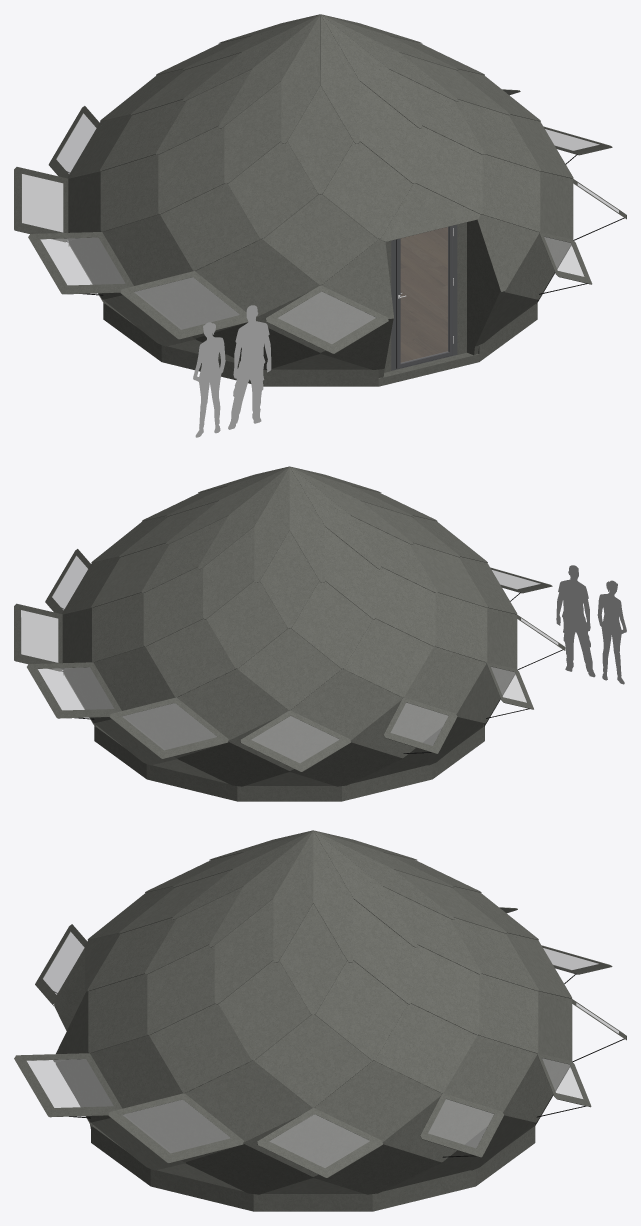
File: zomes-studio3-draco.glb
3 views of the same model, one above another, from view 1: azimuth 30°, elevation 25°; view 2: azimuth 150°, elevation 25°; view 3: azimuth 270°, elevation 25° (orthographic). The views are drawn at different scales.
Visible parts, largest first — view 1: entry-L1-center, door, floor, panel-L1-E-1, man, window-glass-C-2.001, panel-L1-F-2, panel-L1-E-2, window-glass-C-3.001, panel-L1-F-1, window-glass-C-1.001, panel-L1-F-12 (+46 smaller); view 2: entry-L1-center, entry-door-off, panel-L1-E-5, window-glass-C-6.001, man, panel-L1-E-6, panel-L1-F-5, panel-L1-E-4, panel-L1-F-6, window-glass-C-7.001, window-glass-C-5.001, panel-L1-F-7 (+52 smaller); view 3: entry-L1-center, panel-L1-E-9, window-glass-C-10.001, panel-L1-F-9, panel-L1-E-8, panel-L1-E-10, window-glass-C-11.001, panel-L1-F-10, window-glass-C-9.001, panel-L1-F-8, panel-L1-F-11, foundation (+49 smaller).
Part boxes in pixels (x1,y1,x2,y2): entry-L1-center: [69, 183, 571, 378]; door: [391, 224, 457, 370]; floor: [400, 227, 447, 362]; panel-L1-E-1: [262, 196, 378, 285]; man: [193, 305, 271, 437]; window-glass-C-2.001: [120, 271, 248, 339]; panel-L1-F-2: [228, 141, 318, 238]; panel-L1-E-2: [160, 185, 260, 270]; window-glass-C-3.001: [28, 232, 133, 295]; panel-L1-F-1: [322, 143, 412, 238]; window-glass-C-1.001: [265, 285, 388, 353]; panel-L1-F-12: [416, 127, 482, 214]; entry-L1-center: [63, 673, 515, 794]; entry-door-off: [95, 716, 289, 794]; panel-L1-E-5: [237, 630, 341, 710]; window-glass-C-6.001: [110, 697, 228, 758]; man: [556, 565, 626, 684]; panel-L1-E-6: [145, 620, 236, 697]; panel-L1-F-5: [291, 581, 372, 668]; panel-L1-E-4: [343, 620, 433, 697]; panel-L1-F-6: [206, 582, 287, 668]; window-glass-C-7.001: [27, 662, 121, 719]; window-glass-C-5.001: [240, 710, 350, 771]; panel-L1-F-7: [143, 568, 203, 646]; entry-L1-center: [53, 933, 535, 1203]; panel-L1-E-9: [253, 1016, 372, 1107]; window-glass-C-10.001: [108, 1093, 243, 1163]; panel-L1-F-9: [315, 962, 407, 1060]; panel-L1-E-8: [374, 1006, 477, 1093]; panel-L1-E-10: [149, 1006, 252, 1093]; window-glass-C-11.001: [14, 1053, 122, 1118]; panel-L1-F-10: [218, 962, 311, 1060]; window-glass-C-9.001: [257, 1107, 382, 1177]; panel-L1-F-8: [411, 945, 479, 1034]; panel-L1-F-11: [147, 945, 214, 1034]; foundation: [91, 1135, 535, 1211].
Size of the model in its own units: 8.15 by 4.12 by 7.96.
Materials: 19 (8 with a texture image).
